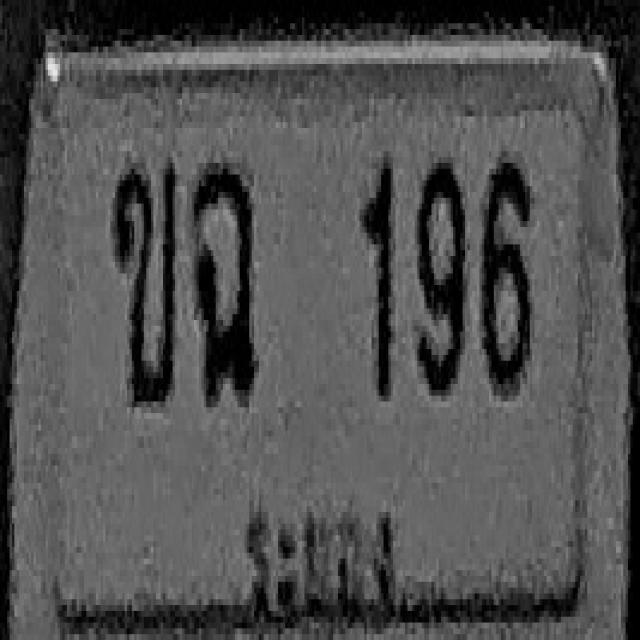1: (362, 157, 393, 396)
11KhorKhai: (113, 160, 175, 404)
18ChorChing: (192, 160, 256, 404)
6: (481, 157, 531, 390)
9: (416, 160, 464, 393)
Rayong: (238, 488, 406, 620)
